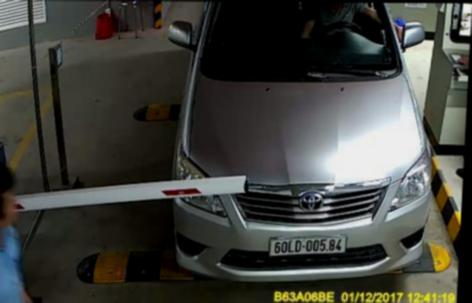License_Plate: (263, 234, 350, 257)
